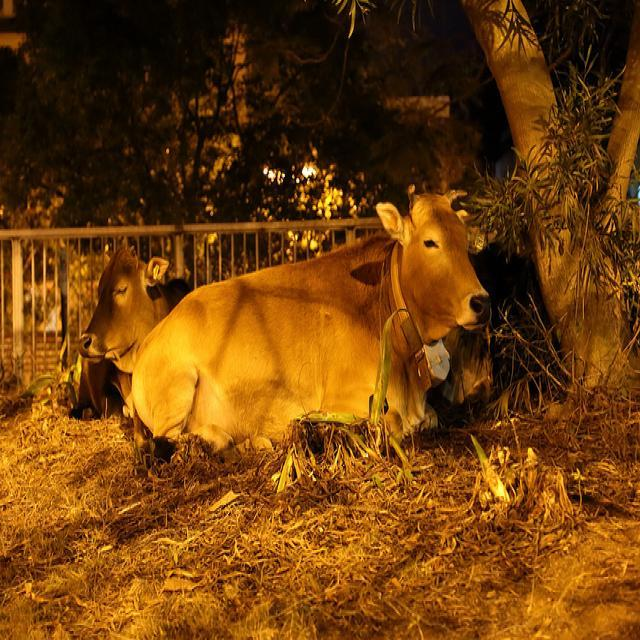cow: (105, 180, 503, 453), (66, 241, 189, 462)
